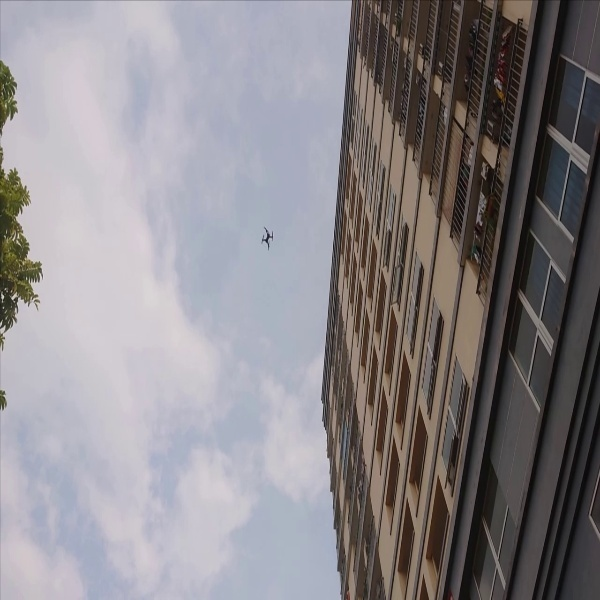drone: (255, 221, 280, 255)
